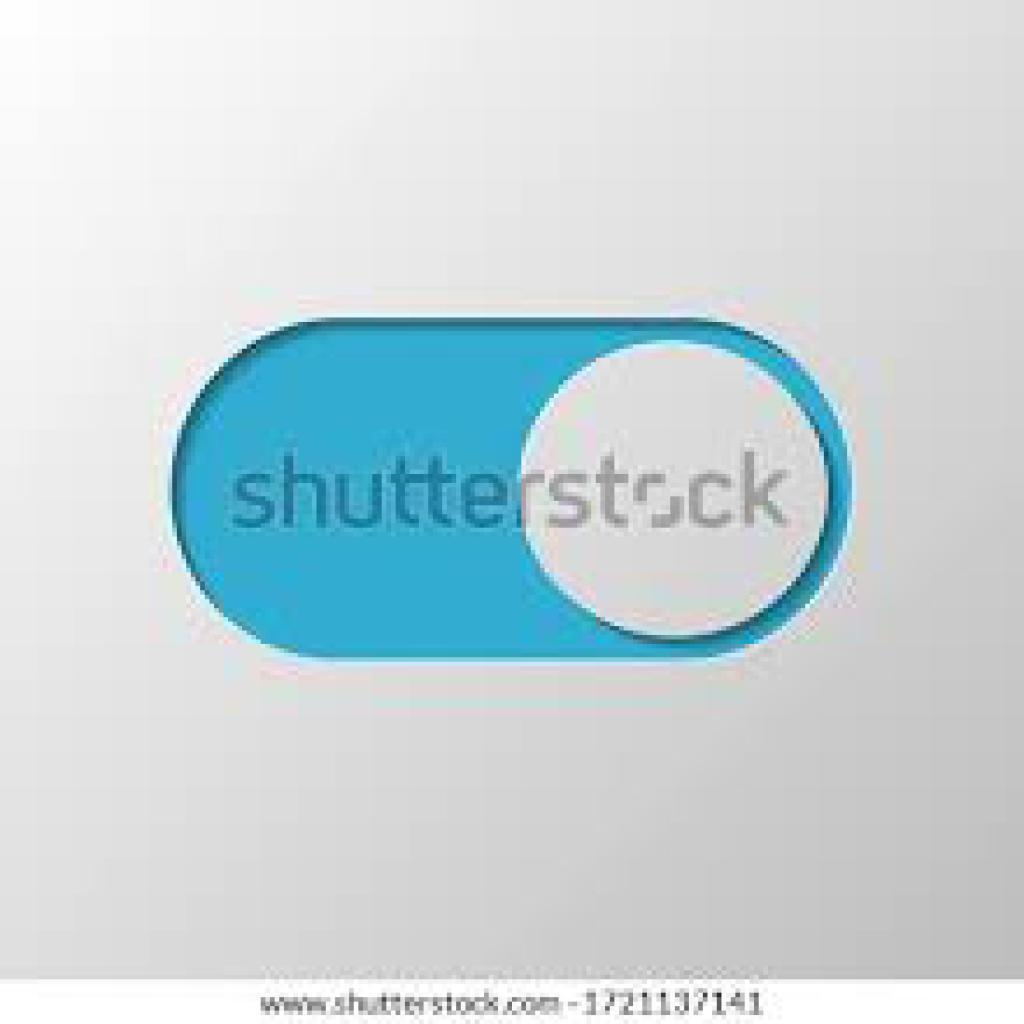switch: (177, 320, 855, 661)
